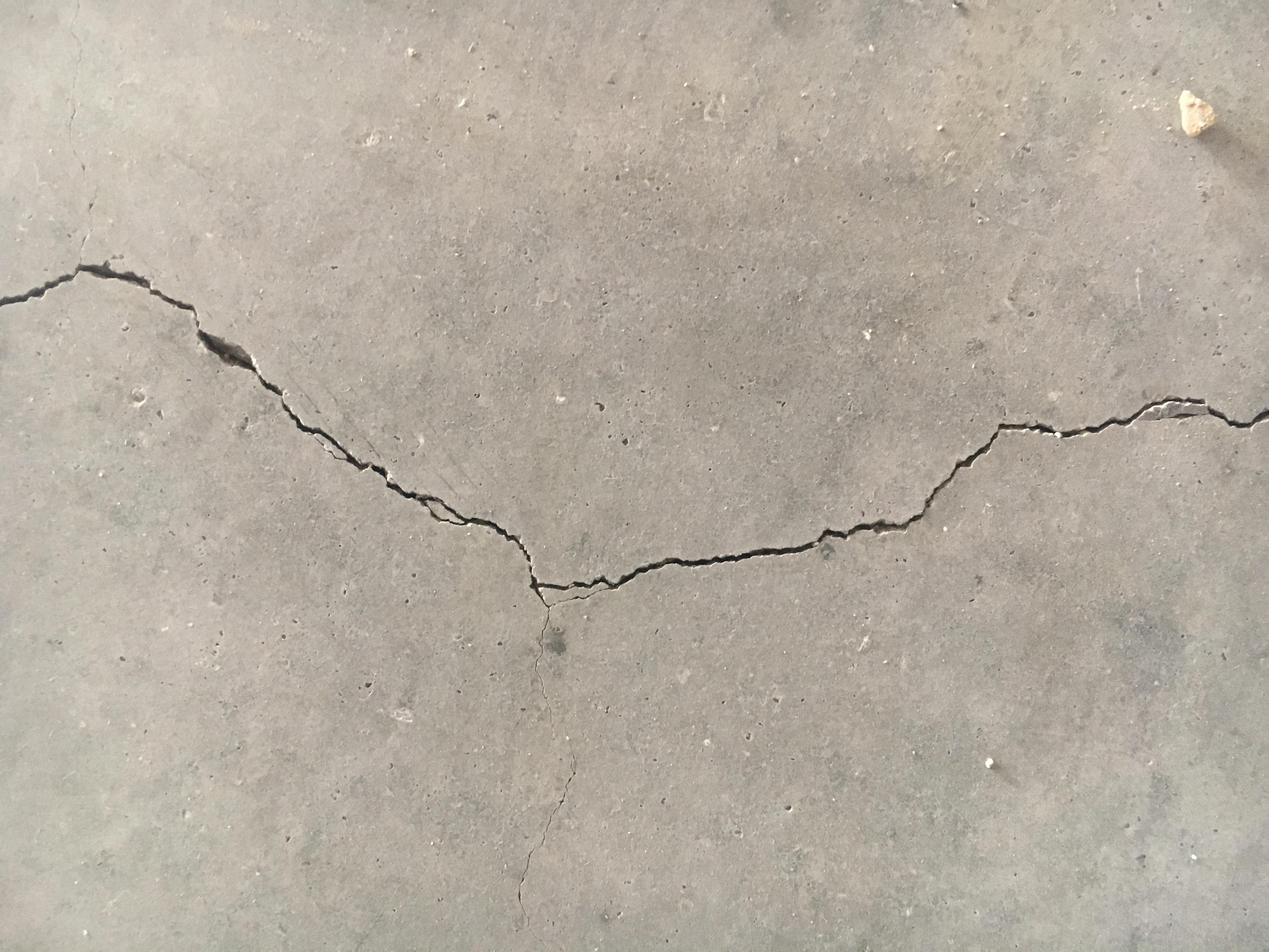Horizontal Settlement Crack: (3, 253, 1266, 613)
